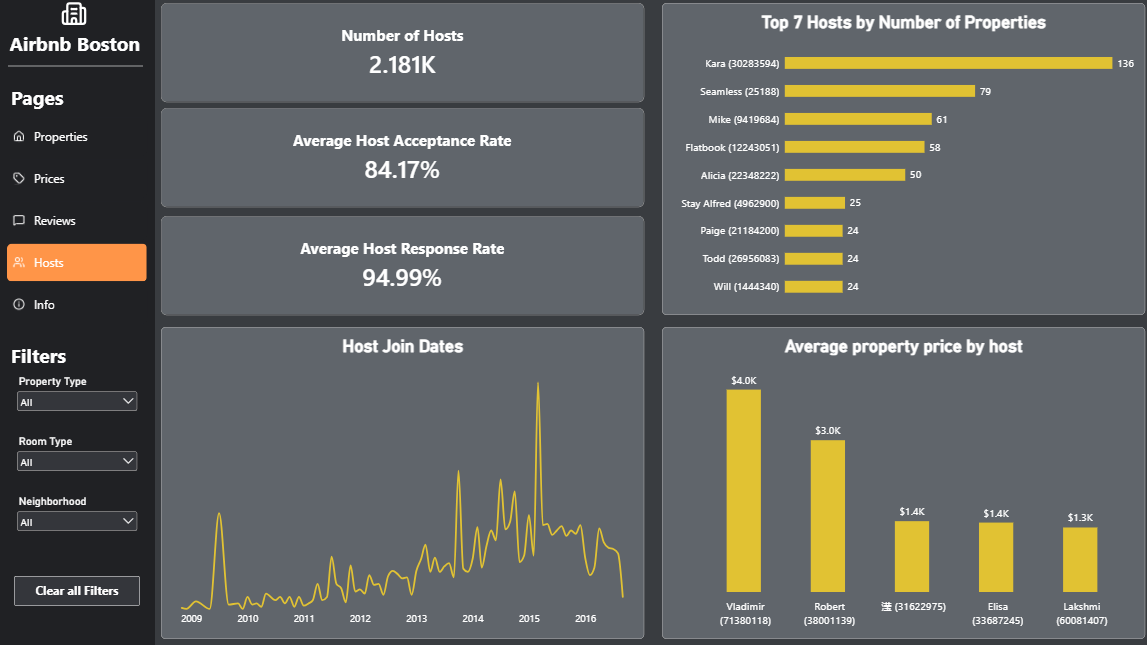

What the dashboard file says about the page in this screenshot:
{"tool":"powerbi","page":{"name":"Hosts","canvas":[1920,1080],"ordinal":3},"visuals":[{"type":"shape","box":[0,0,260,1080],"z":0,"group":"g1"},{"type":"barChart","title":"Top 7 Hosts by Number of Properties","fields":{"Category":["listings.Host Display Name"],"Y":["Max(listings.calculated_host_listings_count)"]},"box":[1105,10,805,520],"z":0},{"type":"lineChart","title":"Host Join Dates","fields":{"Category":["listings.host_since.Variation.Date Hierarchy.Year","listings.host_since.Variation.Date Hierarchy.Month"],"Y":["CountNonNull(listings.host_id)"]},"box":[270,550,805,520],"z":1000},{"type":"columnChart","title":"Average property price by host","fields":{"Category":["listings.Host Display Name"],"Y":["Avg(listings.price)"]},"box":[1105,550,805,520],"z":2000},{"type":"slicer","fields":{"Values":["listings.property_type"]},"box":[25,630,210,70],"z":2000,"group":"g1"},{"type":"cardVisual","title":"عدد المضيفين","fields":{"Data":["Count(listings.host_id)"]},"box":[270,10,805,165],"z":3000},{"type":"slicer","fields":{"Values":["listings.room_type"]},"box":[25,730,210,70],"z":3000,"group":"g1"},{"type":"cardVisual","title":"متوسط نسبة قبول الطلبات","fields":{"Data":["Avg(listings.host_acceptance_rate)"]},"box":[270,186,805,165],"z":4000},{"type":"slicer","fields":{"Values":["listings.neighbourhood_cleansed"]},"box":[25,830,210,70],"z":4000,"group":"g1"},{"type":"cardVisual","title":"متوسط نسبة استجابة المضيف","fields":{"Data":["Avg(listings.host_response_rate)"]},"box":[270,365,805,165],"z":5000},{"type":"group","id":"g1","title":"Group 1","box":[0,0,260,1080],"z":6000},{"type":"textbox","box":[20,145,100,50],"z":7000,"group":"g1"},{"type":"shape","box":[15,95,225,40],"z":9000},{"type":"textbox","box":[20,575,110,50],"z":10000,"group":"g1"},{"type":"textbox","box":[17,55,230.6,45.3],"z":11000},{"type":"image","box":[50,5,150,45],"z":12000,"group":"g1"},{"type":"actionButton","box":[26,966,210,50],"z":13000,"group":"g1"},{"type":"actionButton","title":"Overview Button","box":[13,200,235,65],"z":13500,"group":"g1"},{"type":"actionButton","box":[13,270,235,65],"z":14000,"group":"g1"},{"type":"actionButton","box":[13,480,235,65],"z":14250,"group":"g1"},{"type":"actionButton","box":[13,340,235,65],"z":14500,"group":"g1"},{"type":"actionButton","box":[13,410,235,65],"z":15000,"group":"g1"}]}

Visuals, with their boxes on the page's 1920x1080 design canvas (x1, y1, x2, y2). These are canvas units, not pixel positions in the 1147x645 screenshot, which may show the page scaled, cropped or inside an application window:
shape: (0,0,260,1080)
"Top 7 Hosts by Number of Properties" barChart: (1105,10,1910,530)
"Host Join Dates" lineChart: (270,550,1075,1070)
"Average property price by host" columnChart: (1105,550,1910,1070)
slicer - listings.property_type: (25,630,235,700)
"عدد المضيفين" cardVisual: (270,10,1075,175)
slicer - listings.room_type: (25,730,235,800)
"متوسط نسبة قبول الطلبات" cardVisual: (270,186,1075,351)
slicer - listings.neighbourhood_cleansed: (25,830,235,900)
"متوسط نسبة استجابة المضيف" cardVisual: (270,365,1075,530)
"Group 1" group: (0,0,260,1080)
textbox: (20,145,120,195)
shape: (15,95,240,135)
textbox: (20,575,130,625)
textbox: (17,55,248,100)
image: (50,5,200,50)
actionButton: (26,966,236,1016)
"Overview Button" actionButton: (13,200,248,265)
actionButton: (13,270,248,335)
actionButton: (13,480,248,545)
actionButton: (13,340,248,405)
actionButton: (13,410,248,475)
